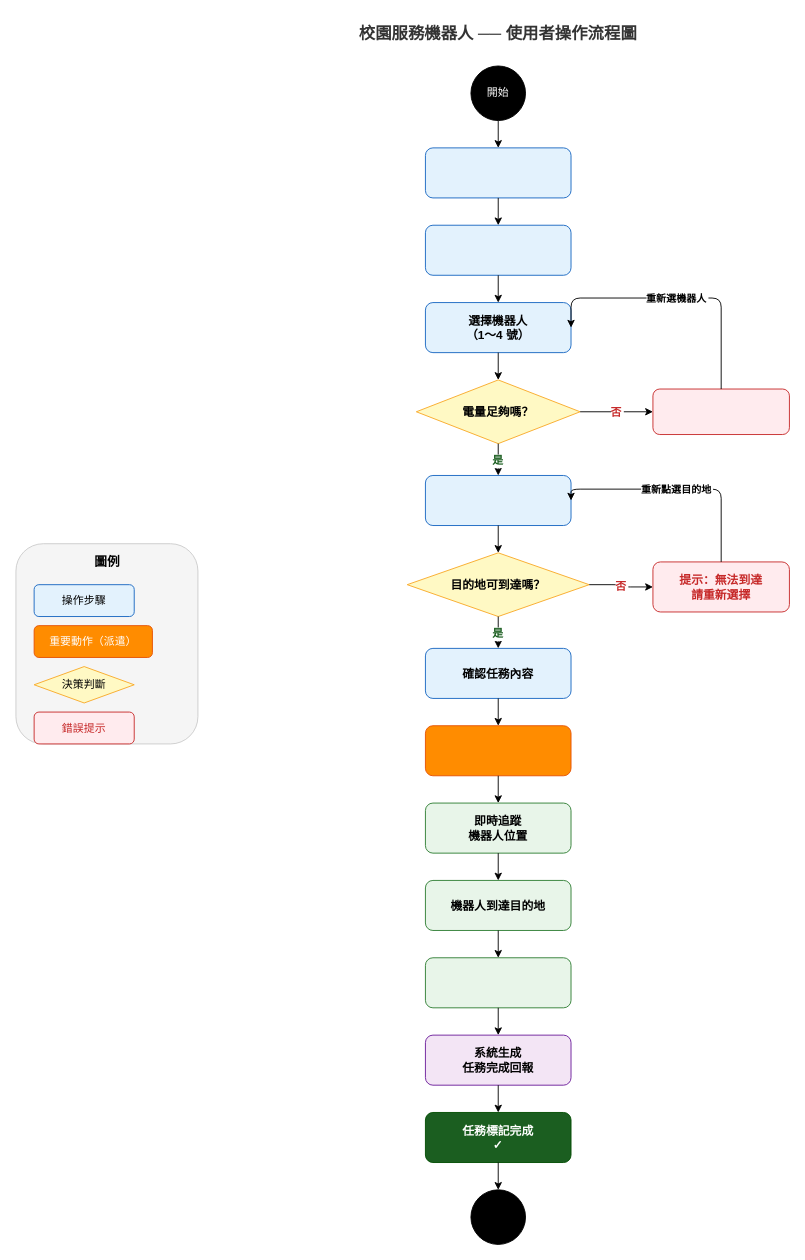
Some shapes in this 805 by 1260 pixel diagram are drawn without their labels. Each missing label, with the centre of its shape:
"儀表板顯示 機器人狀態" goes at (498,249).
"在地圖上點選 任務目的地" goes at (498,500).
"按下「派遣」" goes at (498,750).
"接收方確認 收到物品" goes at (498,982).
"提示：請先充電" goes at (720,411).
"結束" goes at (498,1216).
"老師 / 學生 打開 App" goes at (498,172).
